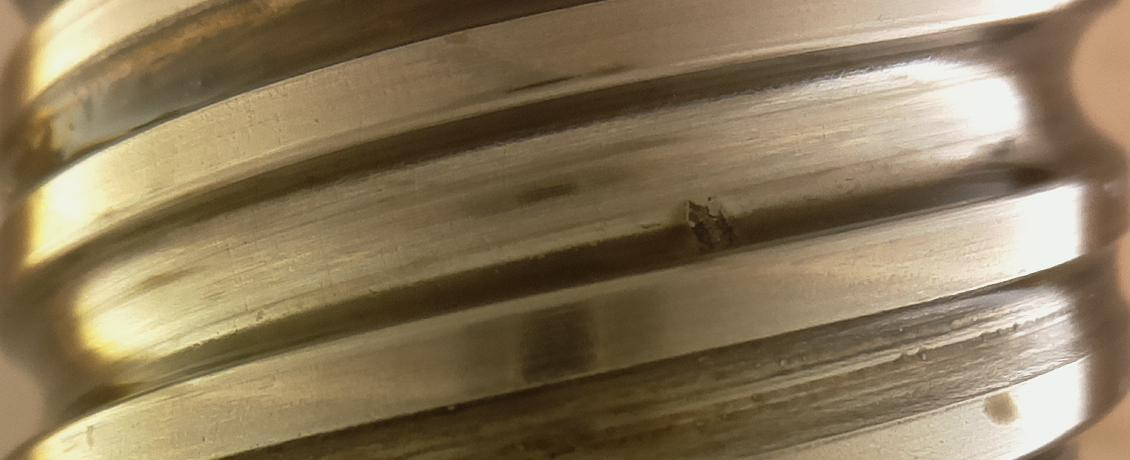pitting: (685, 199, 734, 249)
